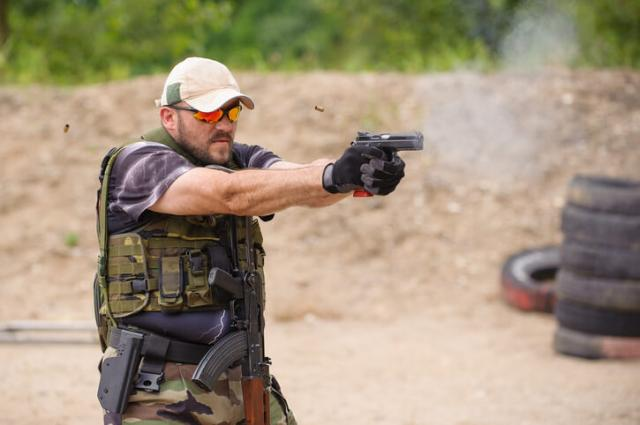handgun: (349, 128, 427, 202)
